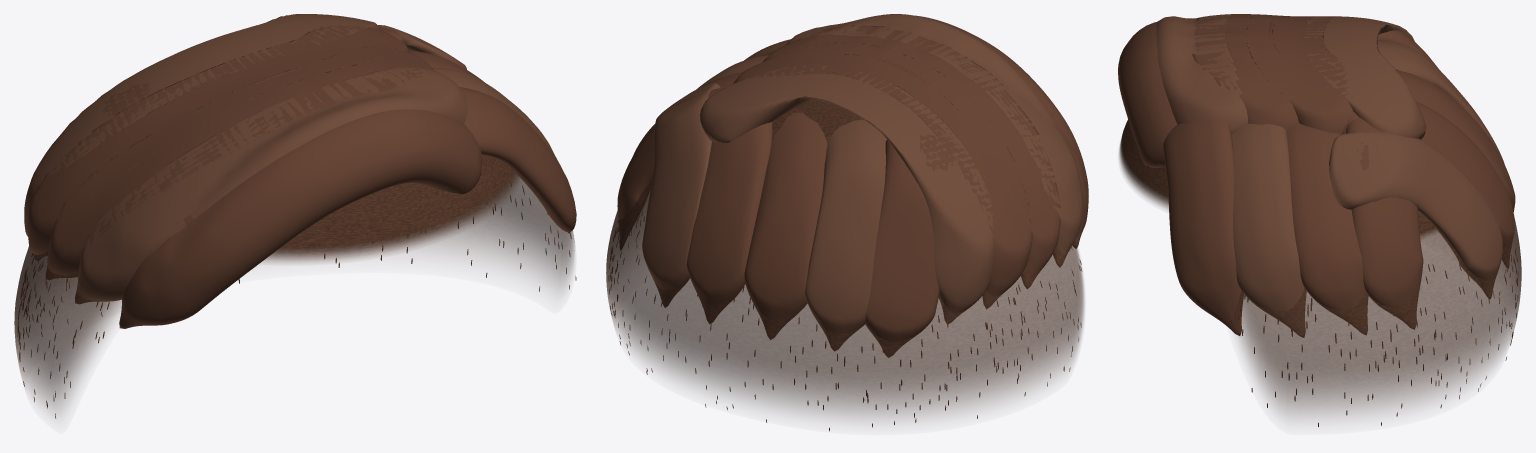
The model's file is Masculine-taper-pashmina251-hair.glb.
3 renders of one model, left to right at view 1: azimuth 30°, elevation 25°; view 2: azimuth 150°, elevation 25°; view 3: azimuth 270°, elevation 25°, orthographic. The views are drawn at different scales.
Parts seen in each view (by area): view 1: 226 hair / Hair / main251.001, 226 hair / Hair / clipped grain251.001, 226 hair / Hair / close cut strokes251.001; view 2: 226 hair / Hair / main251.001, 226 hair / Hair / clipped grain251.001, 226 hair / Hair / close cut strokes251.001; view 3: 226 hair / Hair / main251.001, 226 hair / Hair / clipped grain251.001, 226 hair / Hair / close cut strokes251.001.
Boxes of the visible parts, box(x1,y1,x2,y2) form: 226 hair / Hair / main251.001: box(24, 14, 576, 328); 226 hair / Hair / clipped grain251.001: box(14, 155, 574, 414); 226 hair / Hair / close cut strokes251.001: box(17, 181, 576, 418); 226 hair / Hair / main251.001: box(617, 14, 1088, 357); 226 hair / Hair / clipped grain251.001: box(606, 100, 1084, 419); 226 hair / Hair / close cut strokes251.001: box(609, 210, 1082, 431); 226 hair / Hair / main251.001: box(1118, 14, 1515, 337); 226 hair / Hair / clipped grain251.001: box(1119, 69, 1521, 418); 226 hair / Hair / close cut strokes251.001: box(1231, 248, 1518, 426).
Size of the model in its own units: 0.9812 by 0.6176 by 0.752.
Materials: 4 (1 with a texture image).
